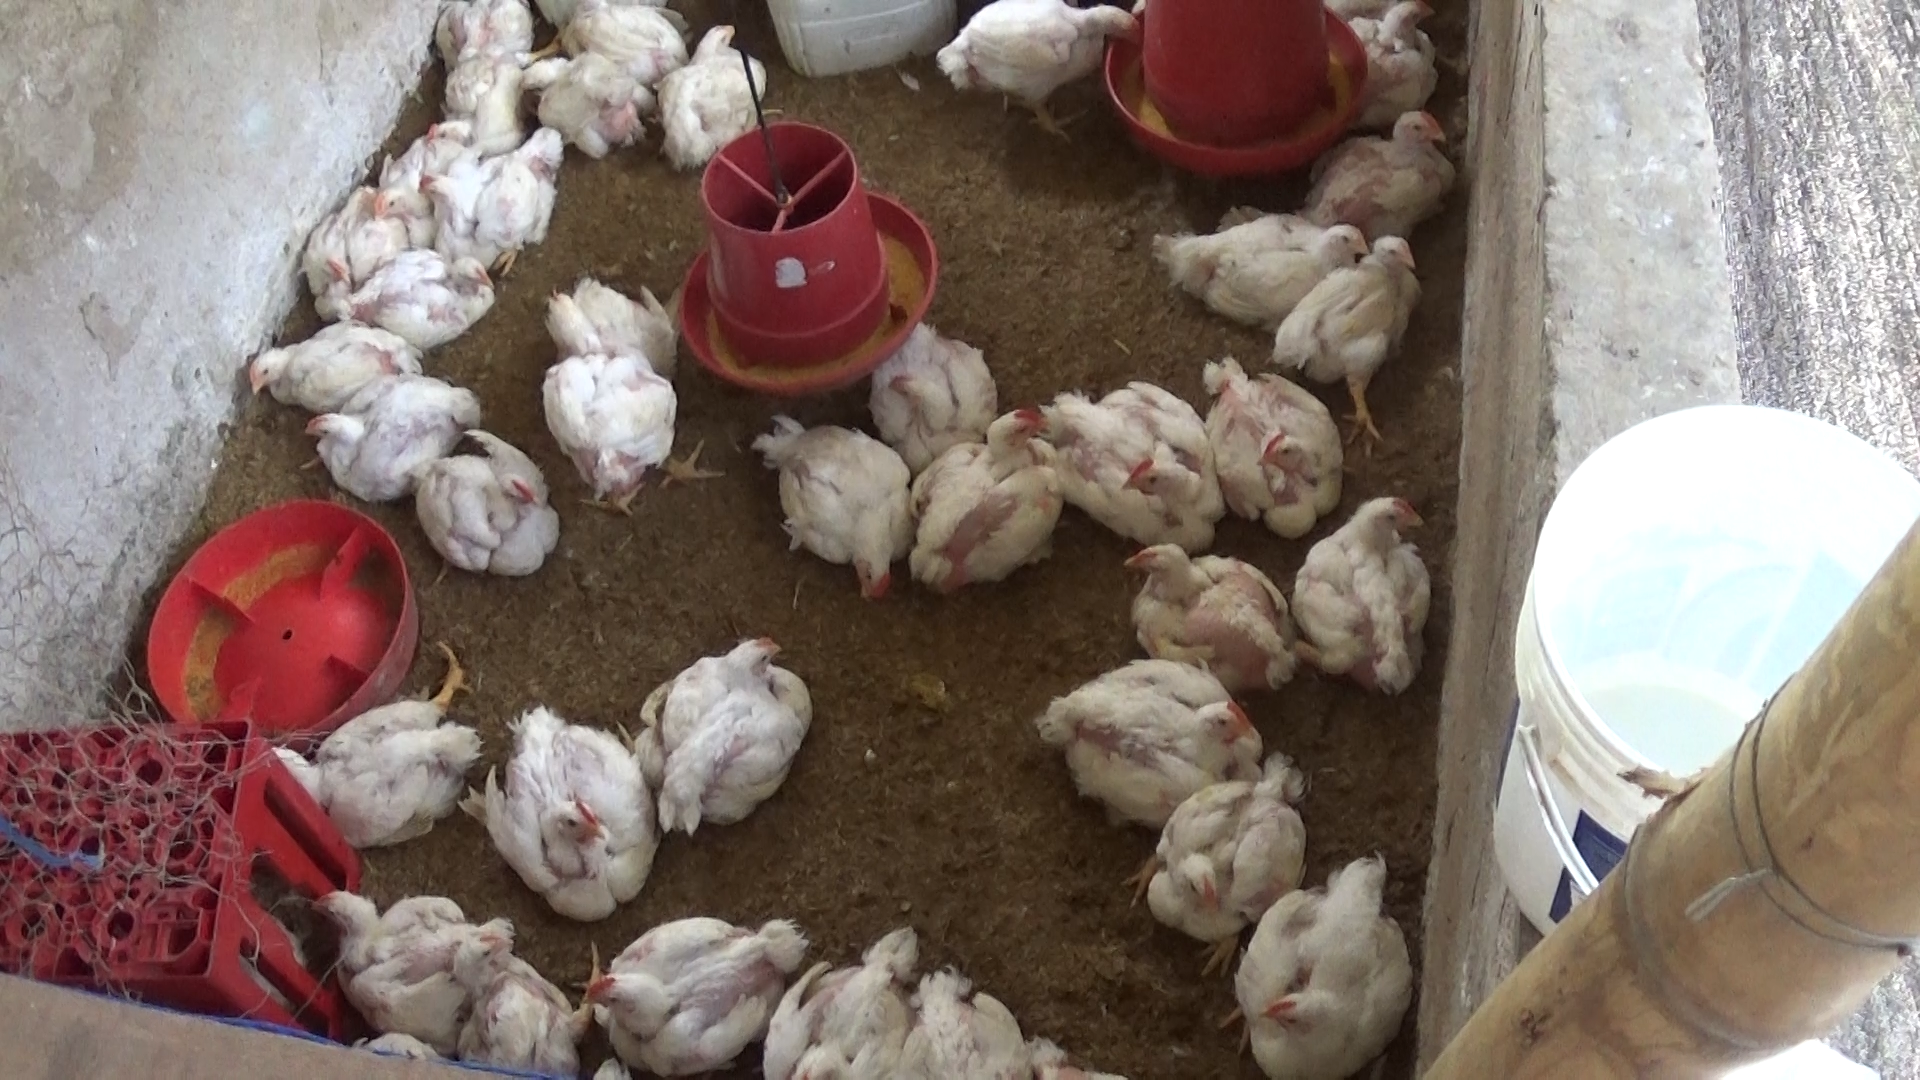Pollos: (1221, 843, 1422, 1080), (462, 709, 680, 909), (641, 632, 837, 833), (738, 911, 960, 1080), (597, 886, 789, 1079), (1124, 753, 1320, 938), (1031, 655, 1266, 804), (757, 402, 916, 611), (422, 934, 641, 1080), (1153, 187, 1367, 336), (1291, 477, 1437, 694), (934, 0, 1149, 142), (293, 665, 477, 829), (1048, 368, 1215, 545), (1112, 522, 1296, 678), (1275, 239, 1425, 429), (915, 406, 1071, 589), (533, 352, 716, 504), (1200, 352, 1350, 535), (295, 877, 471, 1031), (392, 429, 556, 585), (302, 367, 473, 504), (245, 307, 425, 413), (1336, 105, 1465, 243), (870, 314, 1000, 440), (520, 44, 659, 157), (659, 24, 770, 160), (425, 141, 553, 258), (897, 971, 1029, 1080), (545, 273, 680, 377), (1341, 3, 1462, 119), (429, 8, 537, 132), (351, 255, 498, 342), (372, 138, 473, 247), (303, 187, 392, 309)
